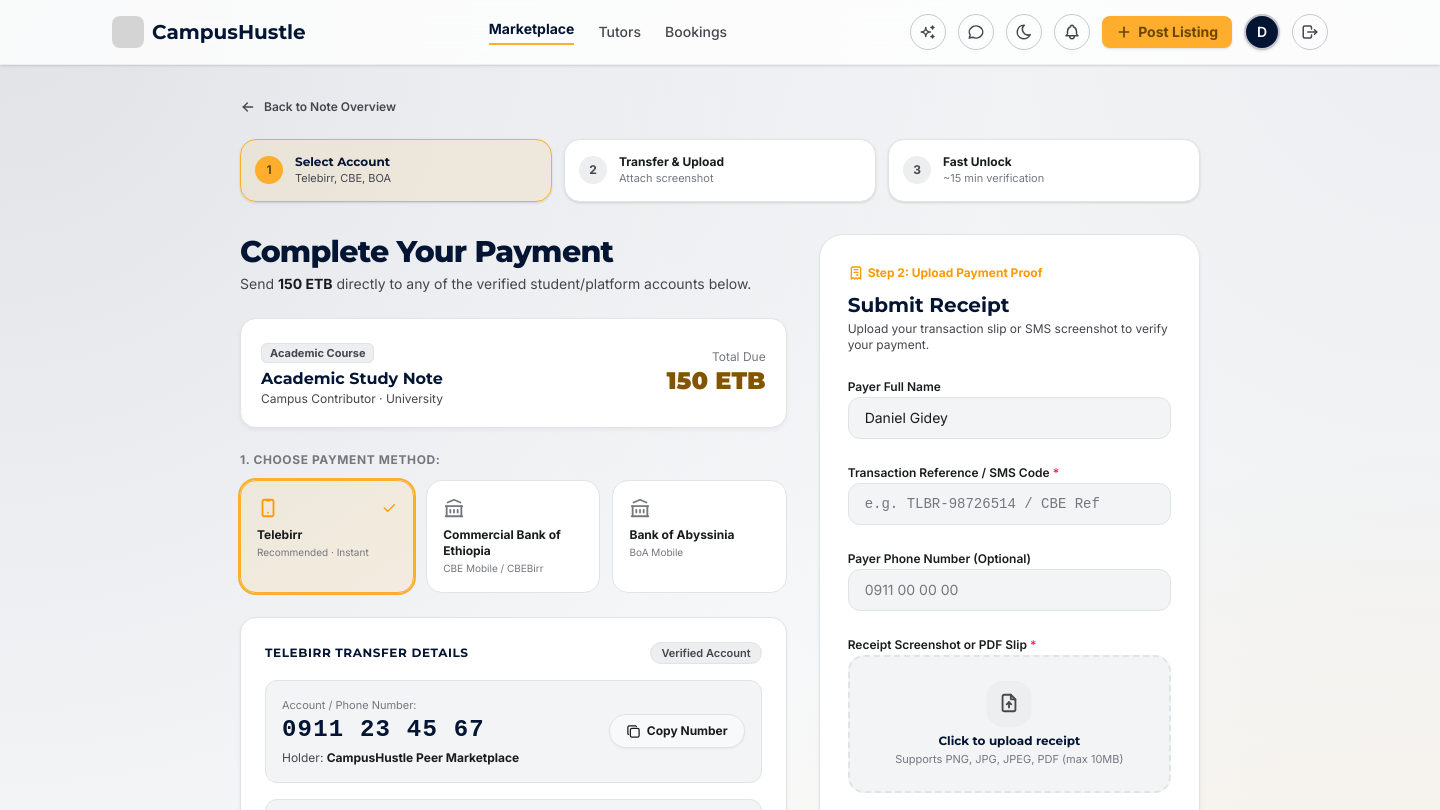
NoteDetailPage & NotePaymentPage › renders payment accounts and handles copy account action in NotePaymentPage
The image size is (1440, 810).
Expected: the heading "Complete Your Payment" is shown, 240,232 -> 613,270
Expected: the text "Telebirr" is shown, 257,526 -> 302,542
Click the button "Copy Number". click: (677, 731)
box: 609,714 -> 745,748
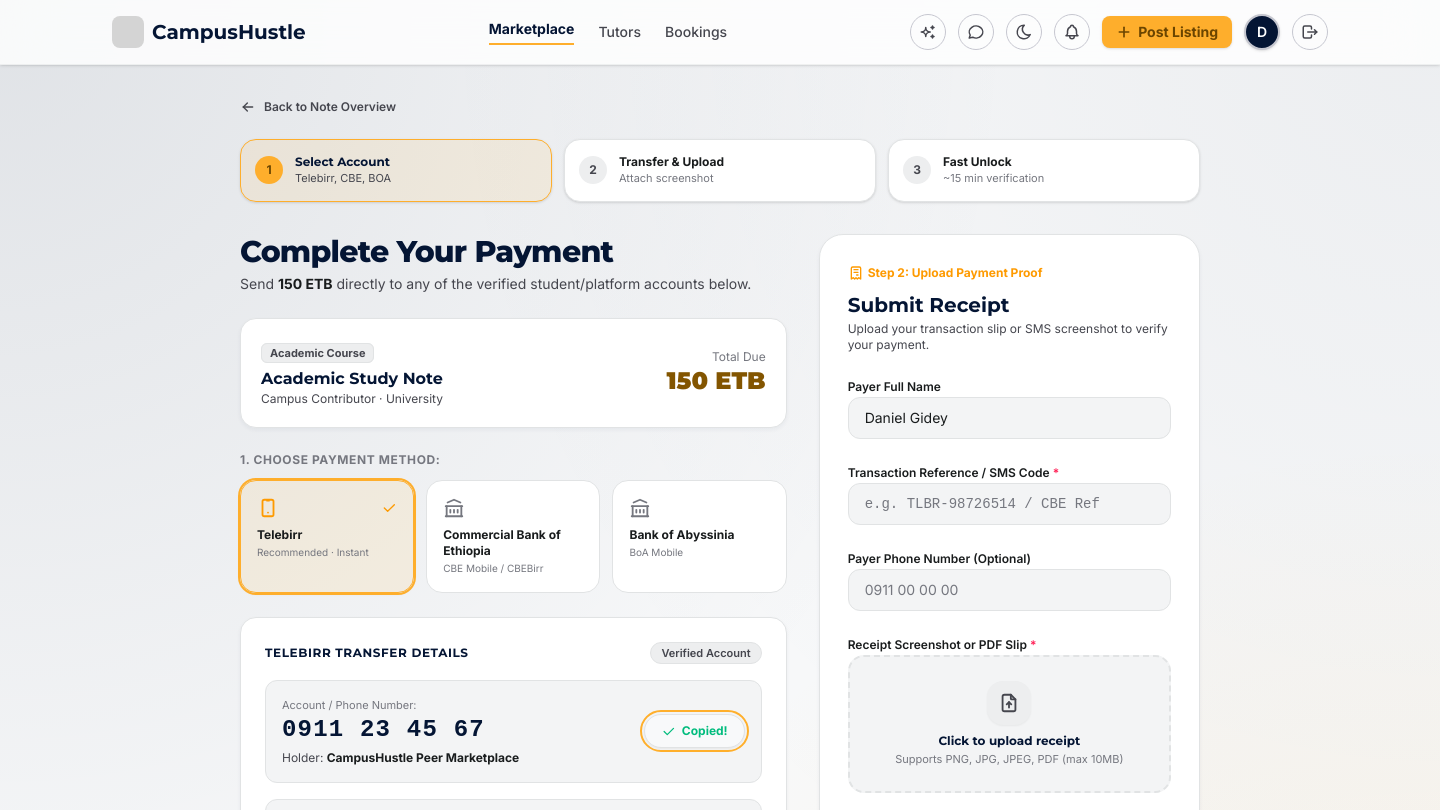
Expected: the text "Copied!" is shown, 682,723 -> 728,738
